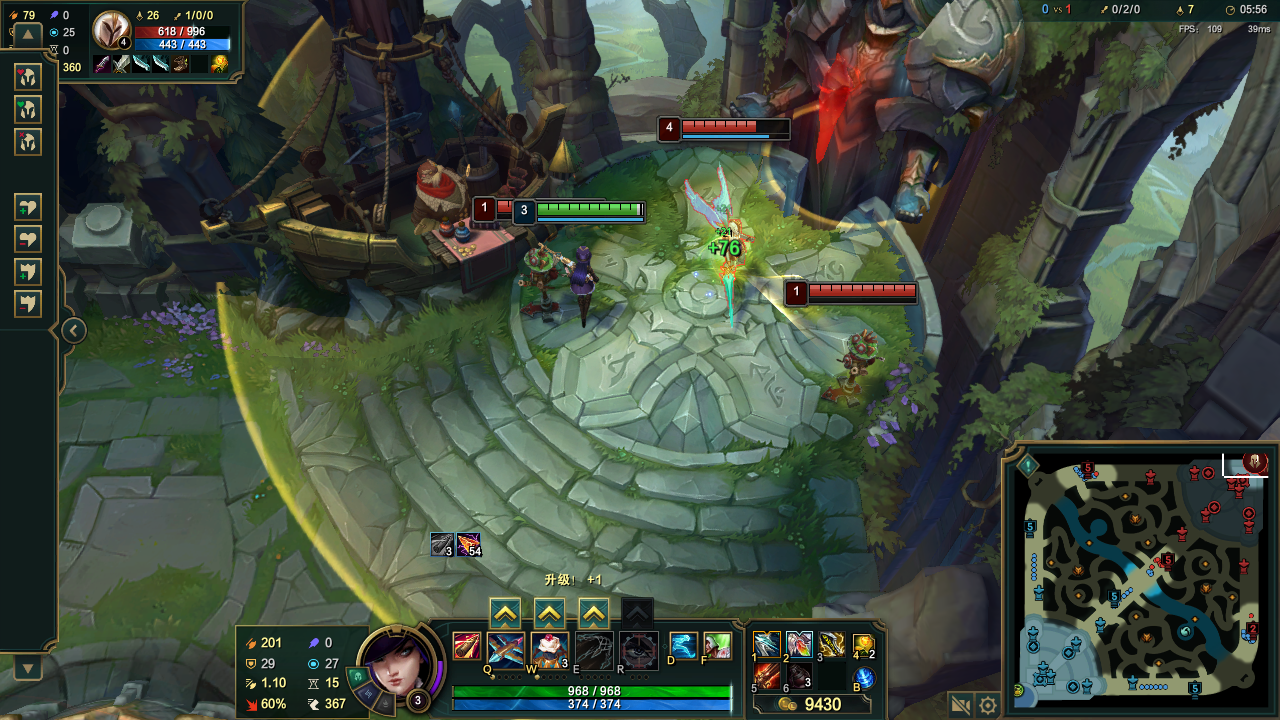DFYX: (809, 279, 920, 295), (678, 117, 795, 132), (499, 201, 515, 211)
